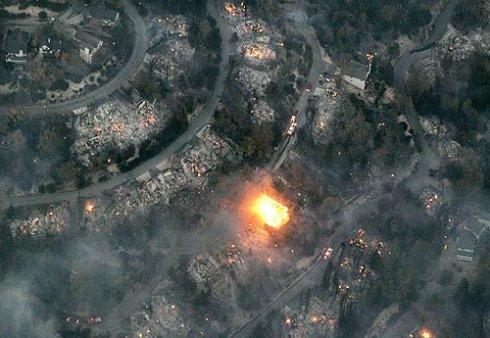fire: (245, 183, 296, 245)
